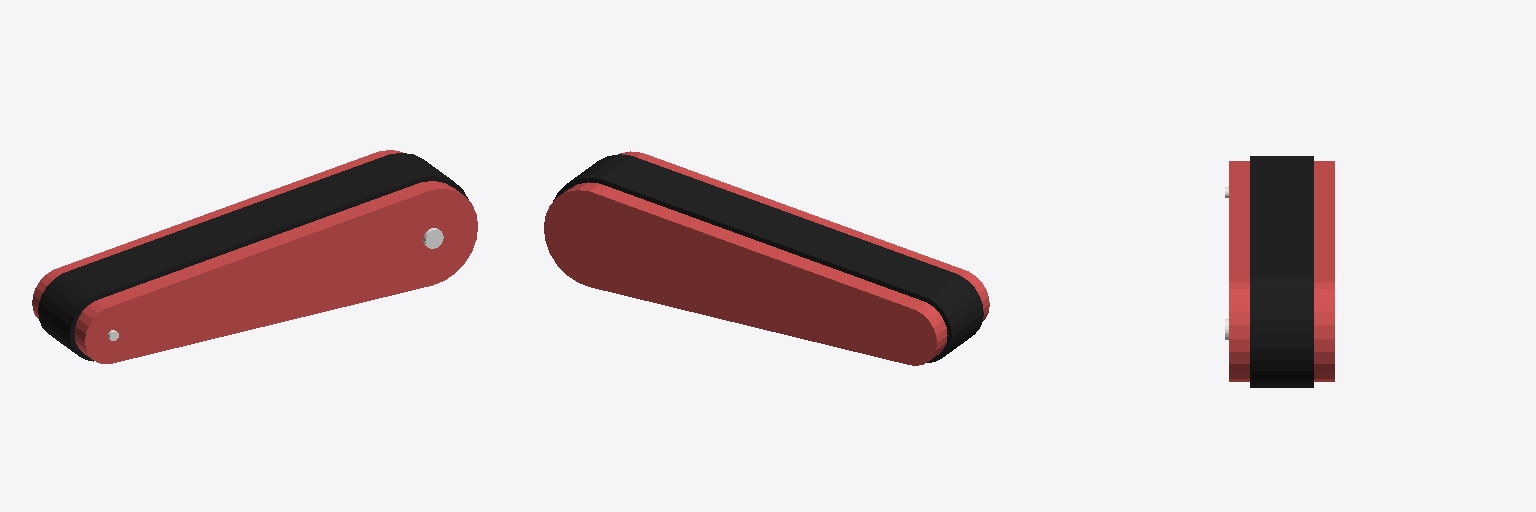
File: flipperRight.obj
3 renders of one model, left to right at view 1: azimuth 30°, elevation 25°; view 2: azimuth 150°, elevation 25°; view 3: azimuth 270°, elevation 25°, orthographic.
Parts seen in each view (by area): view 1: Body1; view 2: Body1; view 3: Body1.
Boxes of the visible parts, x1=… form: Body1: x1=32, y1=150, x2=477, y2=363; Body1: x1=544, y1=151, x2=989, y2=365; Body1: x1=1225, y1=156, x2=1334, y2=387.
Bounding box in the file's own units: 2.2 × 0.55 × 0.52.